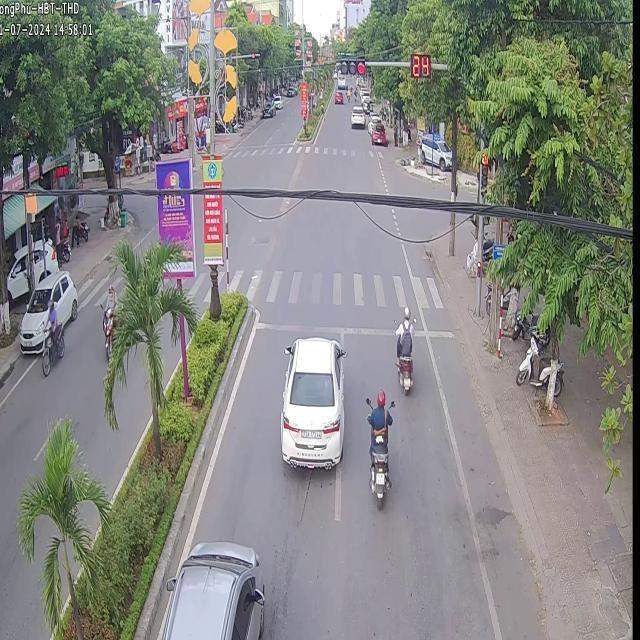car: (162, 542, 261, 631), (279, 336, 344, 467)
motobike: (362, 382, 393, 515), (392, 302, 413, 397)
red_light: (335, 51, 366, 76), (478, 154, 488, 187), (478, 136, 484, 147)
stop_line: (253, 321, 454, 336)
